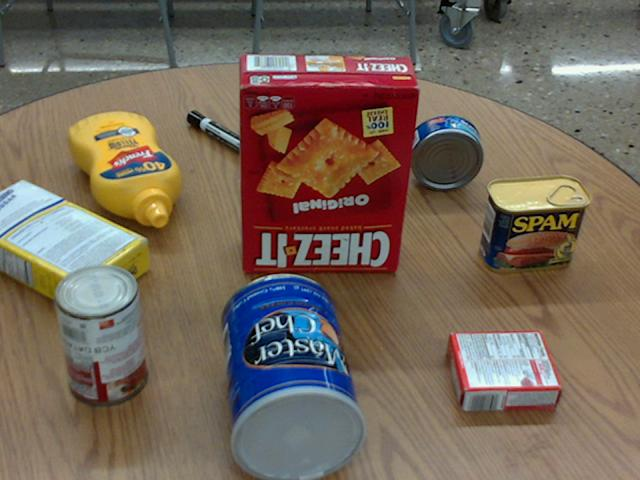cracker_box: (236, 55, 420, 273)
gelatin_box: (445, 329, 562, 409)
large_marker: (186, 110, 258, 158)
master_chef_can: (220, 273, 367, 479)
mug: (270, 59, 361, 148)
mustard_bottle: (68, 111, 180, 226)
potted_meat_can: (479, 175, 590, 273)
sugar_box: (0, 175, 149, 316)
tomato_soup_can: (53, 262, 148, 404)
tuna_fish_can: (406, 114, 482, 189)
